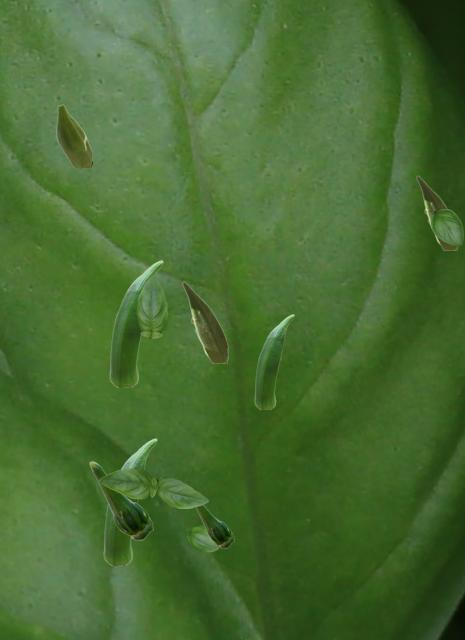okra: (103, 438, 156, 564), (109, 260, 162, 386), (89, 461, 152, 539), (254, 314, 293, 408), (182, 281, 227, 362), (416, 175, 457, 249), (56, 104, 91, 166), (195, 505, 233, 547)
